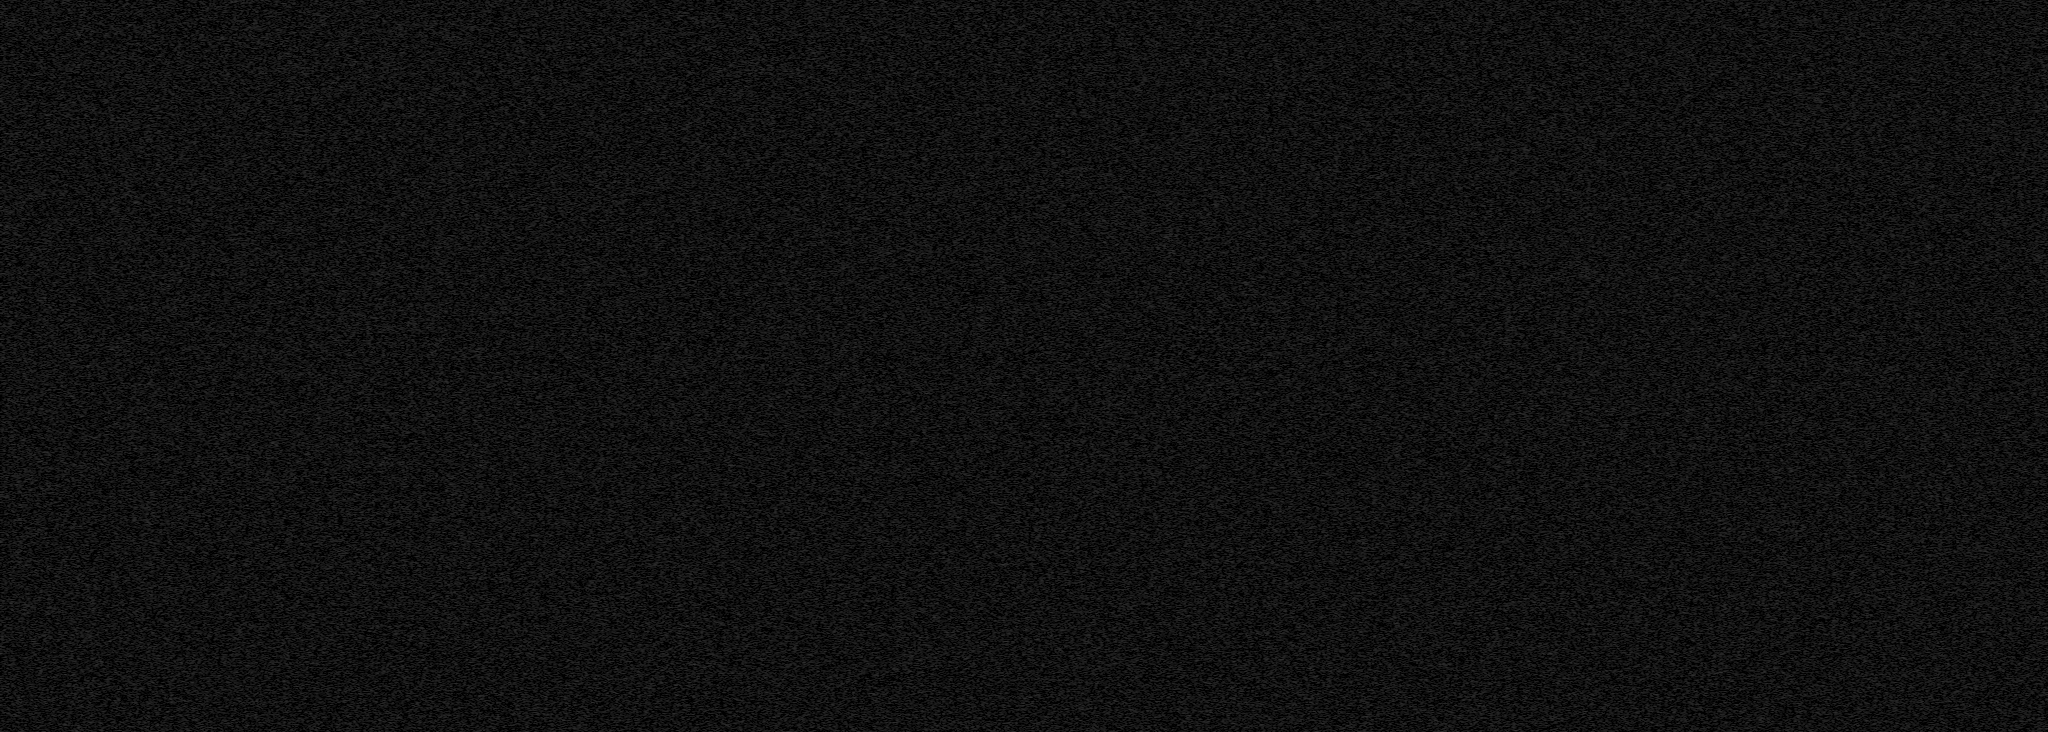wv_am: (1699, 0, 1704, 732), (1573, 0, 1576, 732)
wv_cw: (1750, 0, 1755, 732)
wv_lsb: (1526, 515, 1531, 618), (88, 410, 91, 488), (88, 90, 91, 161), (1526, 114, 1531, 161), (1526, 620, 1531, 663), (88, 533, 91, 590), (1526, 59, 1531, 101), (1526, 196, 1531, 237), (1526, 478, 1531, 514), (366, 684, 371, 718), (1526, 162, 1531, 195), (366, 610, 370, 654), (366, 565, 370, 607), (88, 374, 91, 409), (366, 455, 370, 486), (366, 37, 370, 67), (1526, 271, 1529, 301), (88, 41, 91, 71), (1526, 5, 1531, 27), (366, 308, 370, 336), (1526, 676, 1531, 694), (1526, 708, 1529, 732), (88, 332, 91, 356), (1526, 404, 1531, 421), (366, 68, 370, 90), (366, 512, 370, 535), (1526, 337, 1529, 358), (88, 674, 91, 695), (366, 422, 370, 443), (366, 156, 370, 176), (88, 702, 91, 722), (88, 171, 91, 191), (88, 71, 91, 88), (366, 216, 370, 233), (88, 357, 91, 373), (366, 667, 370, 682), (1526, 376, 1529, 391), (1526, 362, 1529, 376), (88, 220, 91, 234), (366, 541, 370, 556), (366, 387, 370, 401), (1526, 102, 1531, 112), (366, 180, 370, 193), (366, 105, 370, 116), (88, 276, 91, 288), (88, 235, 91, 247), (88, 192, 91, 204), (88, 27, 91, 39), (88, 659, 91, 671), (88, 646, 91, 657), (366, 718, 370, 729), (366, 654, 370, 665), (366, 295, 370, 307), (1526, 695, 1531, 703), (1526, 392, 1529, 403), (1526, 301, 1529, 311), (366, 502, 370, 512), (366, 285, 370, 295), (366, 267, 370, 277), (366, 234, 370, 244), (366, 193, 370, 204), (366, 145, 370, 154), (366, 91, 370, 101), (88, 261, 91, 271), (88, 248, 91, 258), (88, 205, 91, 214), (366, 488, 370, 497), (88, 597, 91, 607), (366, 358, 370, 367), (366, 205, 370, 214), (366, 118, 370, 125), (1526, 422, 1529, 430), (1527, 41, 1529, 52), (88, 319, 91, 327), (88, 162, 91, 170), (88, 637, 91, 644), (366, 342, 370, 350), (1526, 664, 1531, 669), (88, 723, 91, 729), (1526, 329, 1529, 336), (1526, 241, 1529, 247), (88, 291, 91, 298), (366, 557, 370, 563), (88, 590, 91, 596), (366, 248, 370, 255), (1527, 248, 1529, 258), (366, 139, 370, 144), (366, 128, 370, 133), (1526, 671, 1531, 674), (1526, 454, 1529, 459), (88, 494, 91, 499), (366, 535, 370, 540), (366, 409, 370, 414), (366, 403, 370, 408), (366, 352, 370, 357), (366, 278, 370, 284), (366, 256, 370, 261), (88, 519, 91, 523), (1526, 705, 1529, 708), (88, 506, 91, 510), (1526, 441, 1529, 444), (1526, 437, 1529, 441), (1526, 431, 1529, 435), (1526, 319, 1529, 323), (1526, 29, 1529, 33), (88, 305, 91, 308), (88, 697, 91, 701), (88, 258, 91, 261), (88, 216, 91, 220), (88, 10, 91, 14), (366, 607, 370, 610), (366, 416, 370, 420), (366, 337, 370, 341), (366, 261, 370, 265), (367, 18, 370, 24), (1527, 447, 1529, 452), (1527, 35, 1529, 41), (366, 135, 370, 137), (367, 10, 370, 14), (1527, 324, 1529, 328), (1527, 54, 1529, 58), (88, 272, 91, 274), (88, 24, 91, 26), (88, 627, 91, 630), (366, 498, 370, 501), (366, 451, 370, 454), (366, 369, 370, 371), (367, 31, 370, 34)
wv_usb: (29, 400, 35, 697), (29, 122, 35, 399), (1799, 420, 1804, 725), (1799, 176, 1804, 397), (1610, 488, 1614, 678), (1610, 156, 1614, 329), (1799, 56, 1804, 163), (1610, 3, 1614, 123), (1799, 4, 1804, 55), (1610, 339, 1614, 405), (29, 698, 35, 732), (30, 47, 34, 98), (30, 5, 34, 46), (1610, 124, 1614, 156), (1799, 399, 1804, 418), (1610, 420, 1614, 444), (1610, 465, 1614, 488), (1610, 715, 1614, 732), (1610, 448, 1614, 460), (1610, 329, 1614, 339), (1799, 169, 1804, 175), (30, 112, 34, 120), (1610, 407, 1614, 413), (1610, 414, 1614, 420), (30, 105, 34, 108), (30, 99, 34, 103), (1610, 444, 1614, 448), (1610, 461, 1614, 464), (1800, 165, 1802, 169)
